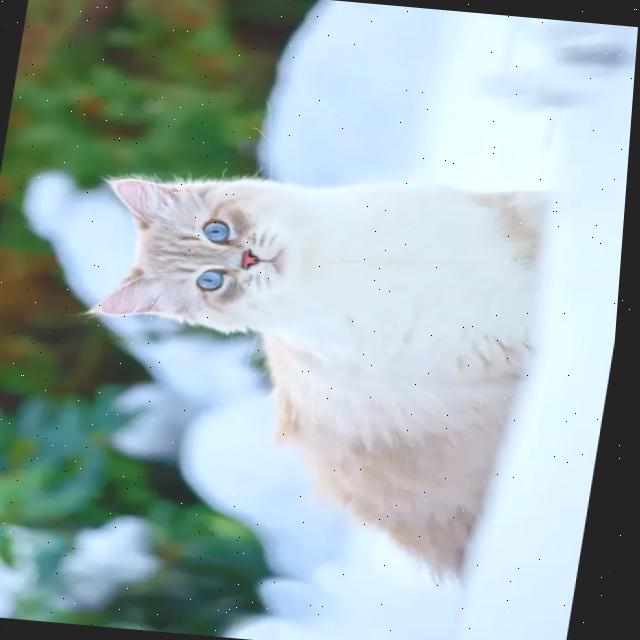Neva Masquerade: (47, 142, 576, 588)
